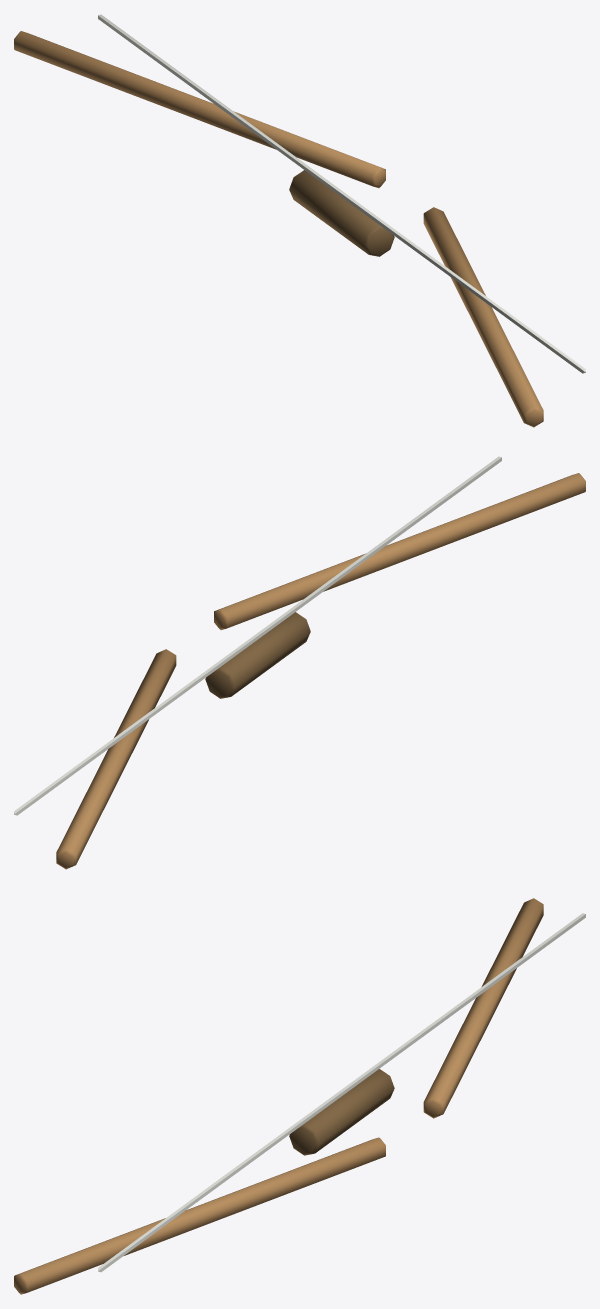
The model's file is weapons_longbow.glb.
The picture shows the model from 3 angles, top to bottom: view 1: azimuth 30°, elevation 25°; view 2: azimuth 150°, elevation 25°; view 3: azimuth 330°, elevation 25°; orthographic projection.
Parts seen in each view (by area): view 1: weapons_longbow; view 2: weapons_longbow; view 3: weapons_longbow.
Boxes of the visible parts, x1,y1,x2,y2 form: weapons_longbow: [14, 14, 585, 427]; weapons_longbow: [14, 456, 585, 869]; weapons_longbow: [14, 898, 585, 1294].
Bounding box in the file's own units: 0.1725 × 0.042 × 1.06.
